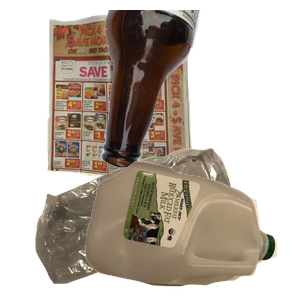glass: (99, 10, 300, 170)
paper: (44, 11, 229, 181)
plastic: (83, 159, 300, 300)
trash: (33, 145, 270, 300)
